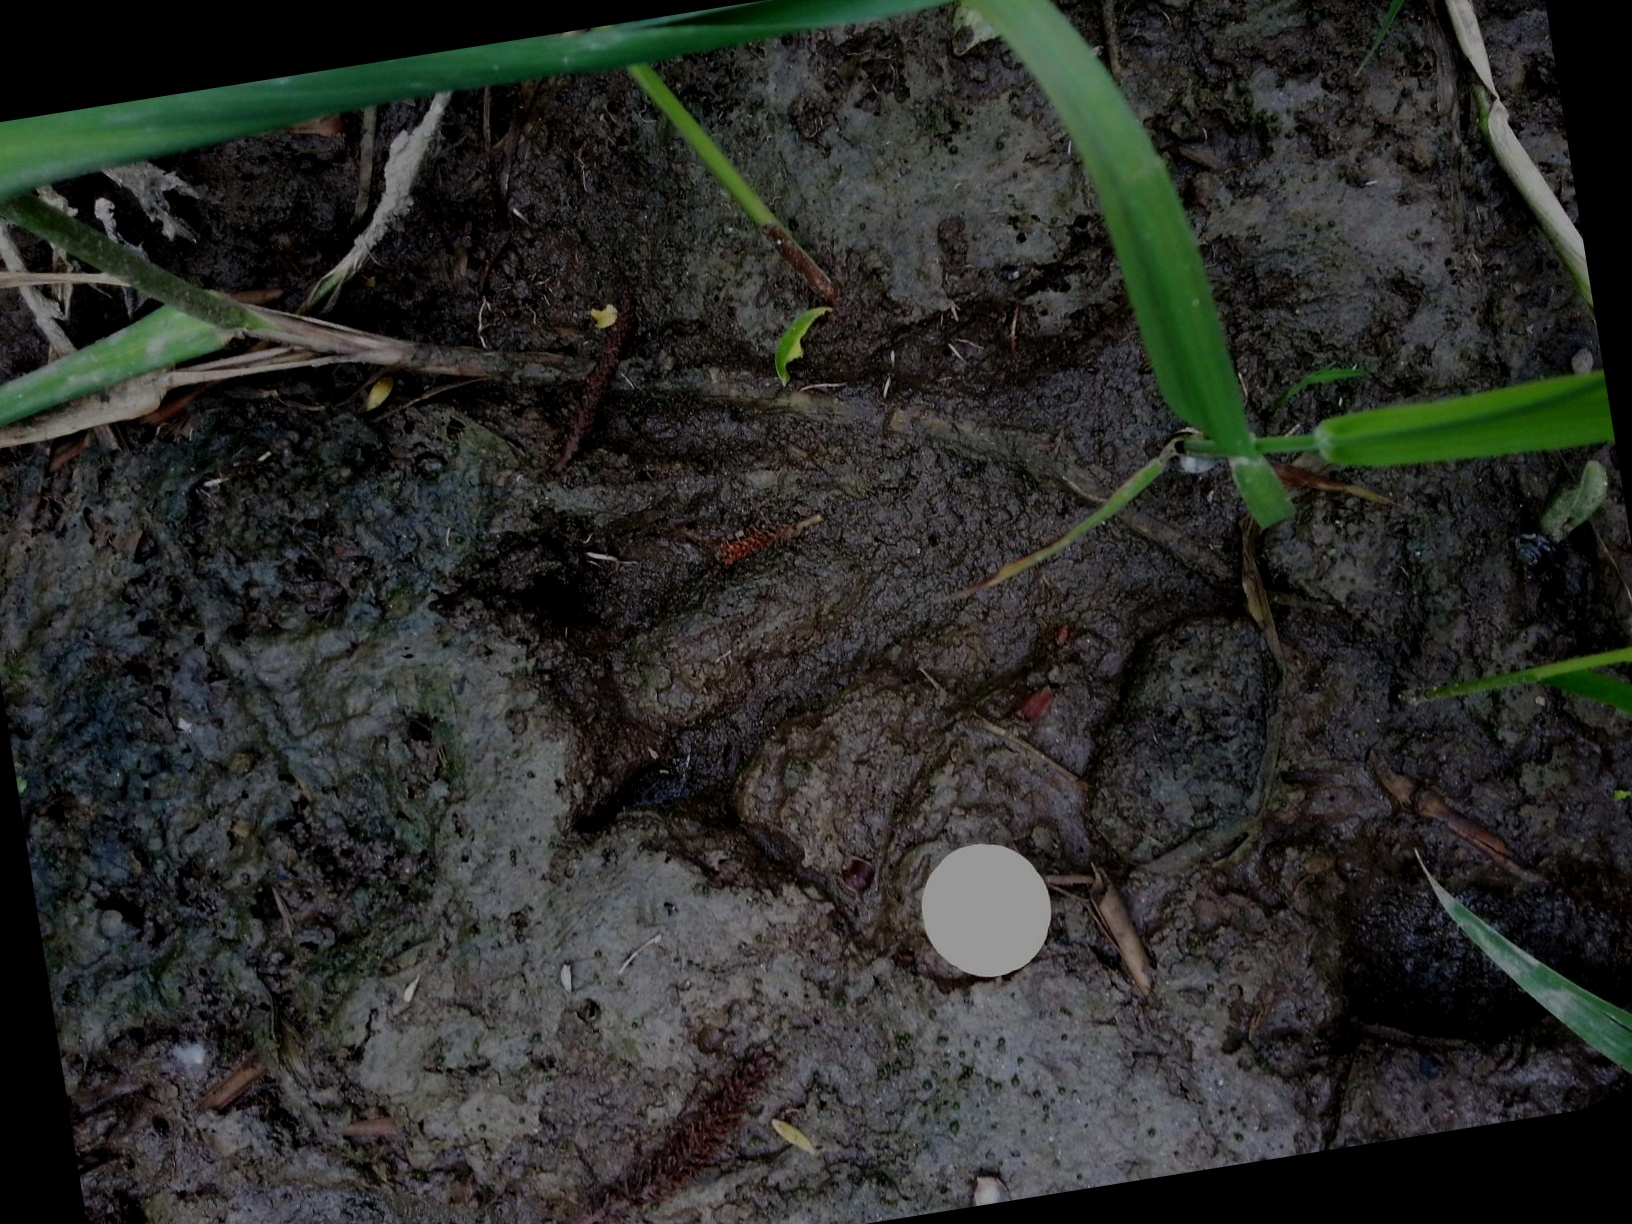beaver: (387, 163, 1523, 1120)
